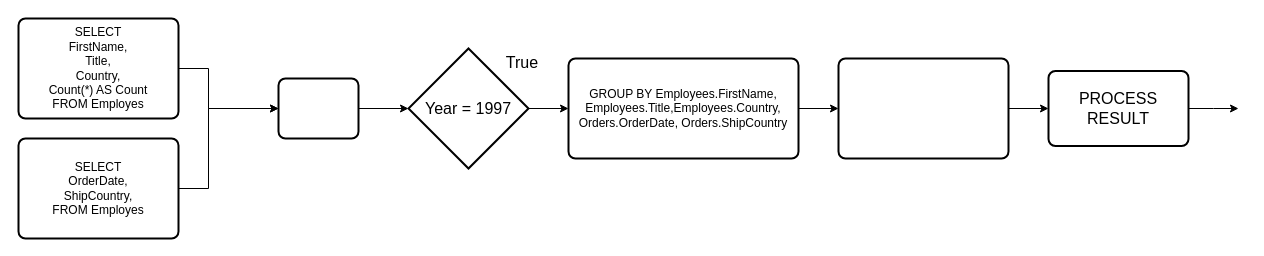
Image size: 1264x256. Some labels were removed from this diagram. Here are the shapes that lost their labels. From the top down, the centre of each, then its label:
(x=318, y=108): JOIN
(x=923, y=108): ORDER BY Count DESC
